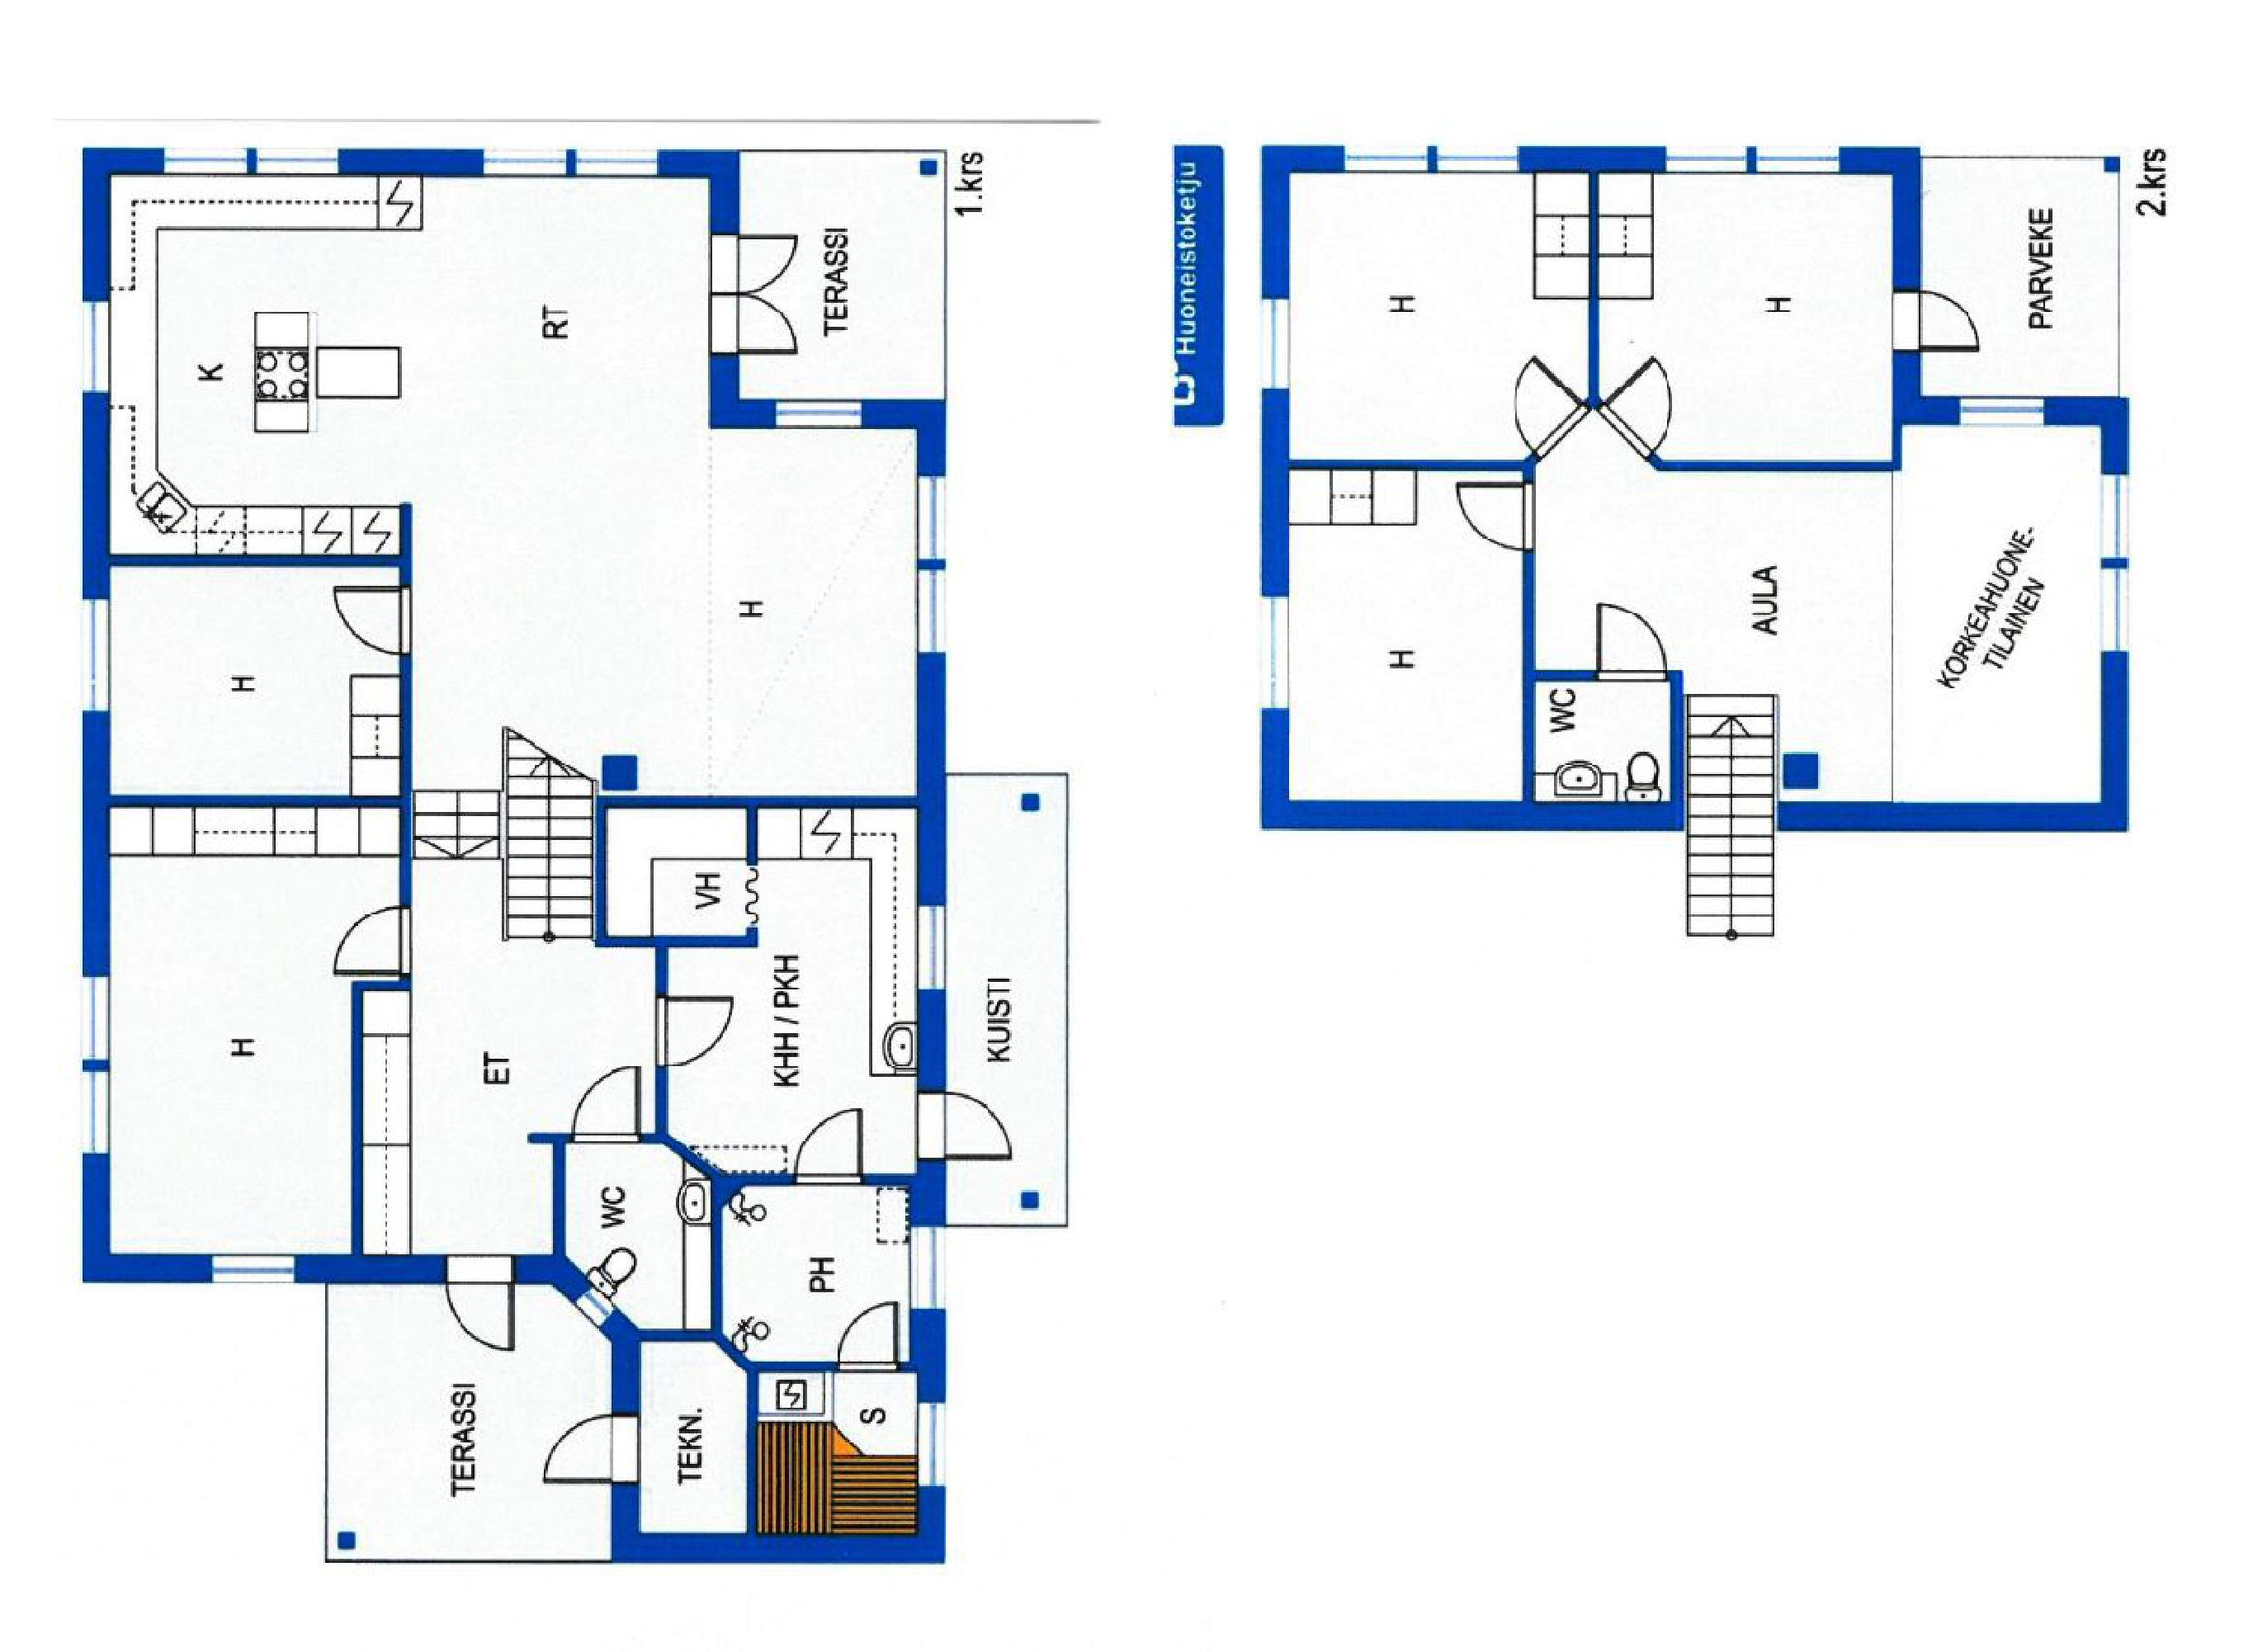door: (1499, 358, 1601, 462), (530, 1416, 654, 1488), (441, 1253, 521, 1358), (917, 1086, 1018, 1168), (1448, 474, 1543, 559), (1880, 288, 1989, 362), (1588, 600, 1678, 685), (320, 904, 411, 981), (791, 1103, 873, 1187), (567, 1061, 638, 1154), (1597, 367, 1676, 451), (652, 995, 740, 1066), (712, 290, 808, 355), (714, 227, 803, 292), (332, 584, 408, 659), (834, 1297, 904, 1367)
window: (903, 1225, 950, 1313), (77, 974, 117, 1059), (1343, 140, 1431, 178), (212, 1250, 297, 1288), (1259, 594, 1287, 708), (570, 145, 661, 180), (918, 902, 952, 993), (479, 145, 572, 177), (1956, 397, 2047, 428), (161, 145, 250, 177), (79, 302, 112, 386), (915, 1399, 948, 1482), (84, 605, 110, 708), (915, 570, 946, 650), (2108, 470, 2132, 566), (252, 147, 336, 175), (82, 1070, 110, 1154), (1669, 150, 1751, 178), (1263, 295, 1287, 388), (1434, 147, 1513, 170), (1754, 152, 1840, 171), (922, 479, 943, 552), (2106, 563, 2124, 650), (577, 1290, 612, 1330)
zone: (98, 157, 925, 808), (98, 795, 402, 1252), (1541, 465, 1887, 797), (422, 795, 659, 1241), (1284, 154, 1608, 458), (1279, 467, 1536, 818), (677, 809, 911, 1187), (1597, 166, 1891, 467), (327, 1280, 633, 1551), (1894, 421, 2104, 806), (96, 563, 399, 801), (943, 776, 1067, 1224), (747, 154, 945, 402), (1921, 154, 2118, 399), (717, 1182, 924, 1364), (565, 1136, 717, 1341), (750, 1371, 920, 1537), (598, 797, 757, 941), (635, 1341, 749, 1540), (1688, 694, 1772, 937), (1522, 677, 1667, 815), (1534, 684, 1671, 806)
